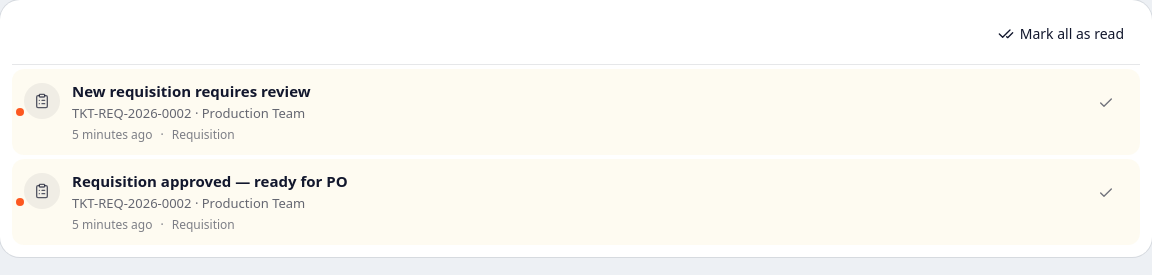
Scenario: /notifications list › marks one read, marks all read, and tells the bell
Click the button named "Mark \"New requisition requires review\" as read" at (1106, 103), box x1=1084 y1=81 x2=1128 y2=125
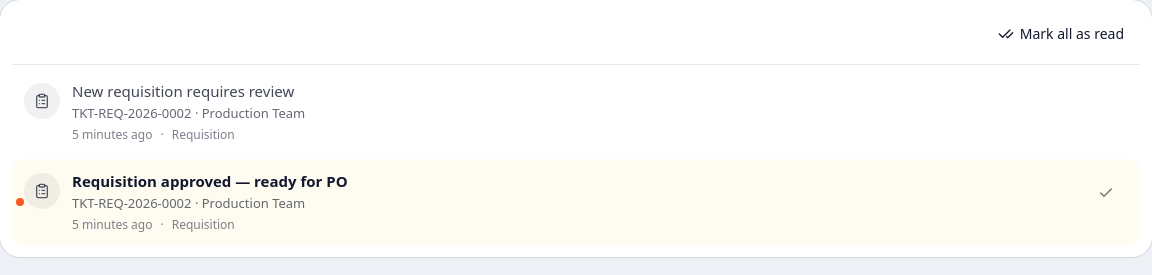
Click the button "Mark all as read" at (1061, 34), box x1=986 y1=12 x2=1136 y2=56
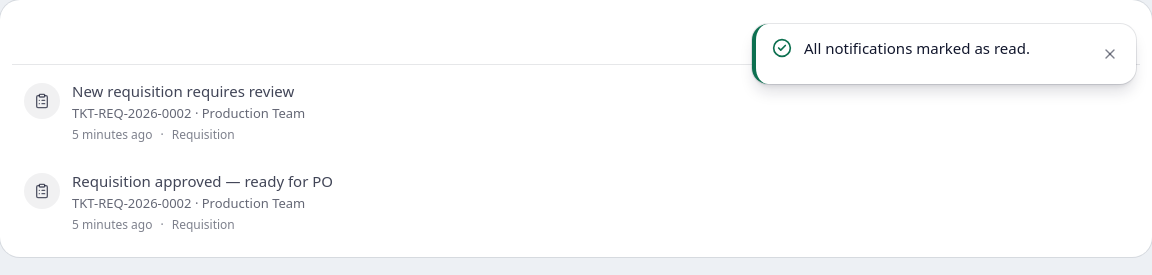
Now the button "Mark all as read" is disabled, box x1=986 y1=12 x2=1136 y2=56
